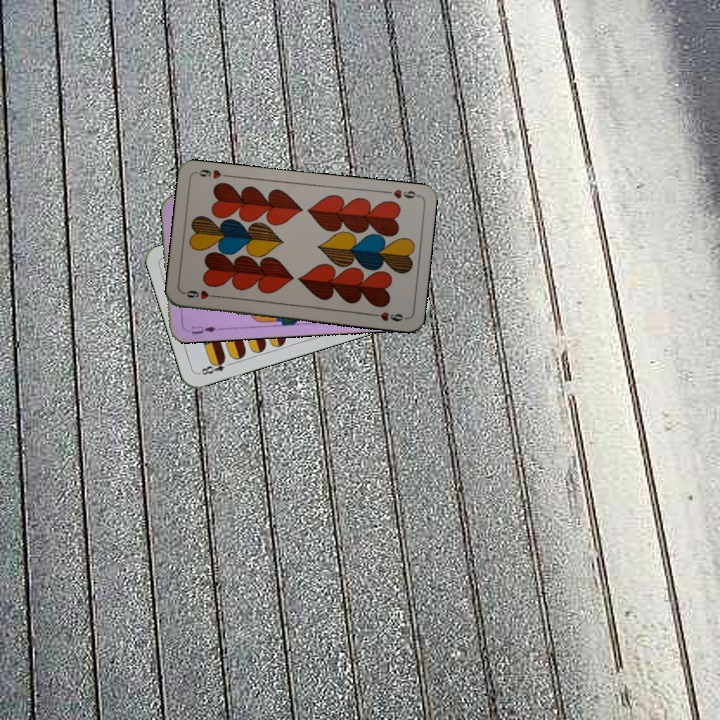E8: (195, 355, 235, 378)
EU: (182, 322, 218, 337)
H9: (180, 286, 221, 302), (380, 185, 421, 201)
